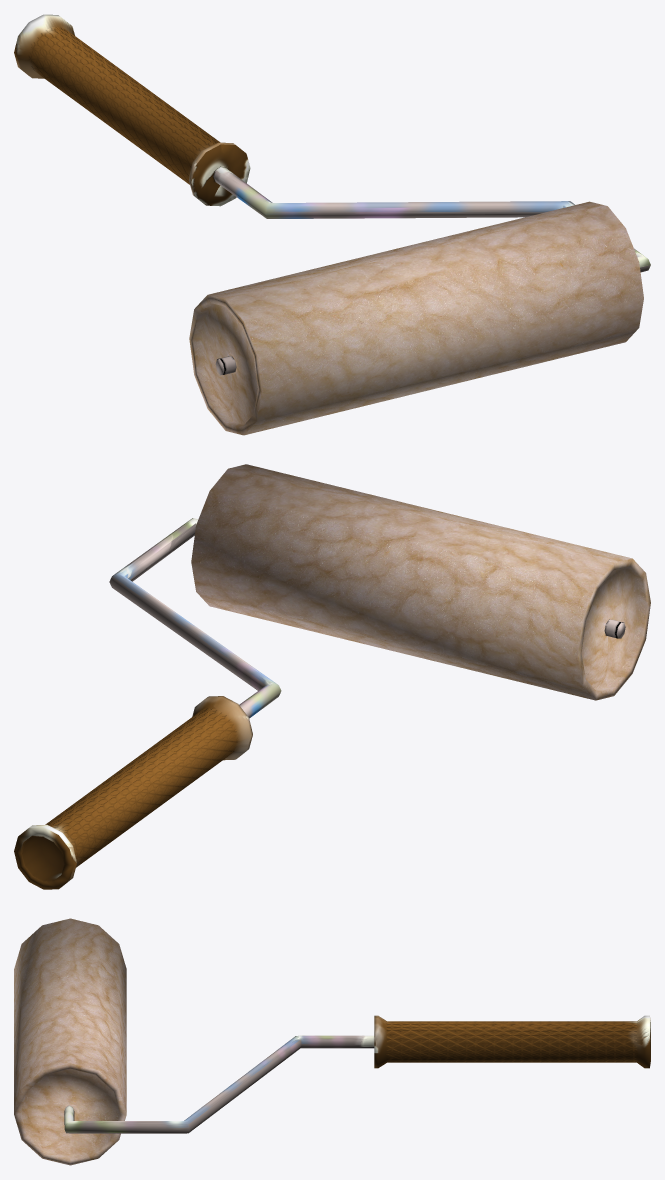
3 renders of one model, top to bottom at view 1: azimuth 30°, elevation 25°; view 2: azimuth 150°, elevation 25°; view 3: azimuth 270°, elevation 25°, orthographic. The views are drawn at different scales.
Visible parts, largest first — view 1: Cylinder, Plane; view 2: Cylinder, Plane; view 3: Cylinder, Plane.
Boxes of the visible parts, x1,y1,x2,y2 form: Cylinder: (189,201,643,435); Plane: (14,14,650,375); Cylinder: (191,464,650,700); Plane: (14,518,625,889); Cylinder: (14,918,126,1165); Plane: (64,1015,650,1133).
Bounding box in the file's own units: 0.3453 × 0.1013 × 0.5719.
Materials: 2 (2 with a texture image).
